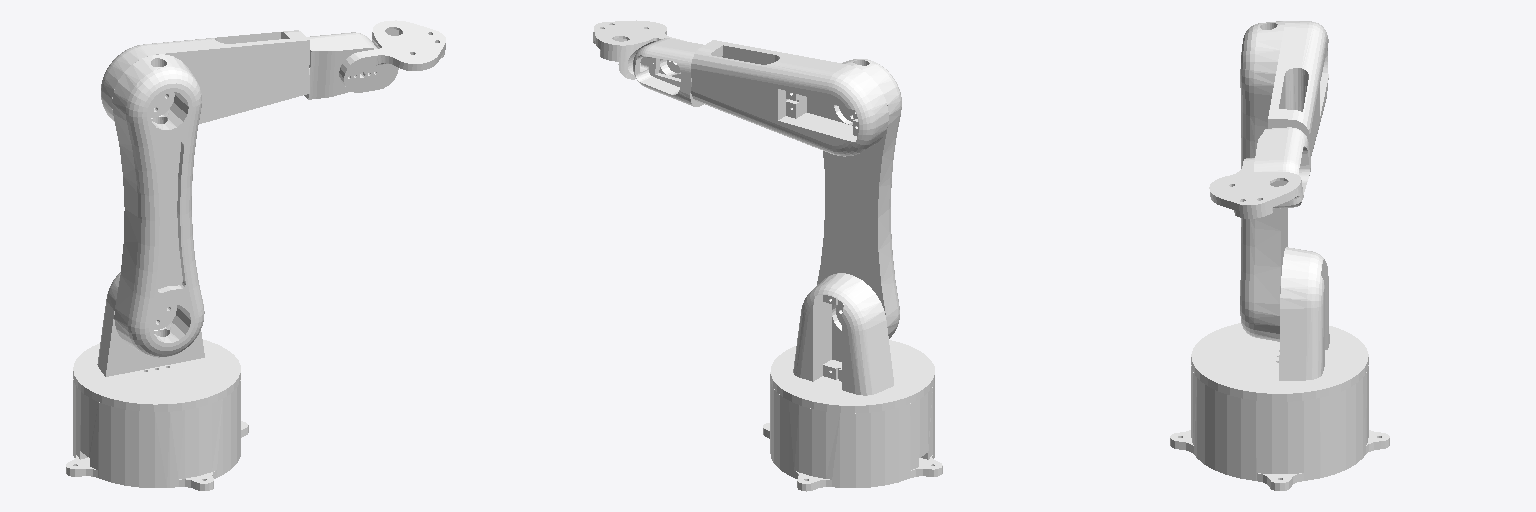
The robot description file, URDF, robot "URDF_ROBOT5GDL":
<?xml version="1.0" encoding="utf-8"?>
<!-- This URDF was automatically created by SolidWorks to URDF Exporter! Originally created by [author] ([email redacted]) 
     Commit Version: 1.6.0-4-g7f85cfe  Build Version: 1.6.7995.38578
     For more information, please see http://wiki.ros.org/sw_urdf_exporter -->
<robot
  name="URDF_ROBOT5GDL">
  <link
    name="base">
    <inertial>
      <origin
        xyz="-0.11962770585968 0.0224259173577204 0.0650534160948688"
        rpy="0 0 0" />
      <mass
        value="0.093991528357274" />
      <inertia
        ixx="0.000114117515271886"
        ixy="-1.35284011841919E-06"
        ixz="2.13737987932819E-08"
        iyy="0.00019776858898422"
        iyz="2.80449571670601E-09"
        izz="0.000124427213646739" />
    </inertial>
    <visual>
      <origin
        xyz="0 0 0"
        rpy="0 0 0" />
      <geometry>
        <mesh
          filename="package://URDF_ROBOT5GDL/meshes/base.STL" />
      </geometry>
      <material
        name="">
        <color
          rgba="1 1 1 1" />
      </material>
    </visual>
    <collision>
      <origin
        xyz="0 0 0"
        rpy="0 0 0" />
      <geometry>
        <mesh
          filename="package://URDF_ROBOT5GDL/meshes/base.STL" />
      </geometry>
    </collision>
  </link>
  <link
    name="J0">
    <inertial>
      <origin
        xyz="0.00705756789604024 -1.03814220123177E-07 -0.0194229347811683"
        rpy="0 0 0" />
      <mass
        value="0.0897213187915349" />
      <inertia
        ixx="7.72728720700329E-05"
        ixy="2.77140507338326E-10"
        ixz="7.96790903926998E-06"
        iyy="6.69370927398848E-05"
        iyz="-6.66096666573266E-11"
        izz="7.06954475493989E-05" />
    </inertial>
    <visual>
      <origin
        xyz="0 0 0"
        rpy="0 0 0" />
      <geometry>
        <mesh
          filename="package://URDF_ROBOT5GDL/meshes/J0.STL" />
      </geometry>
      <material
        name="">
        <color
          rgba="1 1 1 1" />
      </material>
    </visual>
    <collision>
      <origin
        xyz="0 0 0"
        rpy="0 0 0" />
      <geometry>
        <mesh
          filename="package://URDF_ROBOT5GDL/meshes/J0.STL" />
      </geometry>
    </collision>
  </link>
  <joint
    name="J0"
    type="continuous">
    <origin
      xyz="-0.120517011434494 -0.0650552599410059 0.0499999999999998"
      rpy="-3.14159265358979 0 1.47987282587312" />
    <parent
      link="base" />
    <child
      link="J0" />
    <axis
      xyz="0 0 1" />
  </joint>
  <link
    name="J1">
    <inertial>
      <origin
        xyz="-0.0700000105763837 -0.00781836198678804 -3.59229752472379E-08"
        rpy="0 0 0" />
      <mass
        value="0.13818908775593" />
      <inertia
        ixx="3.08451208820533E-05"
        ixy="-3.88973669767347E-12"
        ixz="-1.00959227812006E-10"
        iyy="0.000431781048974166"
        iyz="2.03392242386139E-11"
        izz="0.000413033559935478" />
    </inertial>
    <visual>
      <origin
        xyz="0 0 0"
        rpy="0 0 0" />
      <geometry>
        <mesh
          filename="package://URDF_ROBOT5GDL/meshes/J1.STL" />
      </geometry>
      <material
        name="">
        <color
          rgba="1 1 1 1" />
      </material>
    </visual>
    <collision>
      <origin
        xyz="0 0 0"
        rpy="0 0 0" />
      <geometry>
        <mesh
          filename="package://URDF_ROBOT5GDL/meshes/J1.STL" />
      </geometry>
    </collision>
  </link>
  <joint
    name="J1"
    type="continuous">
    <origin
      xyz="0 0 -0.0435499999999992"
      rpy="-3.14159265358979 -1.55987158755512 1.57079632679537" />
    <parent
      link="J0" />
    <child
      link="J1" />
    <axis
      xyz="0 1 0" />
  </joint>
  <link
    name="J2">
    <inertial>
      <origin
        xyz="0.000100524690572146 -0.0130785542880969 0.0316987674607788"
        rpy="0 0 0" />
      <mass
        value="0.0803344691186284" />
      <inertia
        ixx="0.000104520108783472"
        ixy="1.04782110853391E-08"
        ixz="-2.54229822619457E-07"
        iyy="0.00011722659357718"
        iyz="8.1701788336201E-07"
        izz="2.12574578367453E-05" />
    </inertial>
    <visual>
      <origin
        xyz="0 0 0"
        rpy="0 0 0" />
      <geometry>
        <mesh
          filename="package://URDF_ROBOT5GDL/meshes/J2.STL" />
      </geometry>
      <material
        name="">
        <color
          rgba="1 1 1 1" />
      </material>
    </visual>
    <collision>
      <origin
        xyz="0 0 0"
        rpy="0 0 0" />
      <geometry>
        <mesh
          filename="package://URDF_ROBOT5GDL/meshes/J2.STL" />
      </geometry>
    </collision>
  </link>
  <joint
    name="J2"
    type="continuous">
    <origin
      xyz="-0.140000000000001 0 0"
      rpy="0 -0.0206204308986285 3.14159265358979" />
    <parent
      link="J1" />
    <child
      link="J2" />
    <axis
      xyz="0 1 0" />
  </joint>
  <link
    name="J3">
    <inertial>
      <origin
        xyz="0.000564329020180998 0.00394900802042061 0.0224034593597551"
        rpy="0 0 0" />
      <mass
        value="0.0204480610002332" />
      <inertia
        ixx="5.09531086038014E-06"
        ixy="-2.9748855419056E-09"
        ixz="-1.13770387817142E-08"
        iyy="6.07399569864947E-06"
        iyz="-3.91777865594178E-07"
        izz="2.9611806707879E-06" />
    </inertial>
    <visual>
      <origin
        xyz="0 0 0"
        rpy="0 0 0" />
      <geometry>
        <mesh
          filename="package://URDF_ROBOT5GDL/meshes/J3.STL" />
      </geometry>
      <material
        name="">
        <color
          rgba="1 1 1 1" />
      </material>
    </visual>
    <collision>
      <origin
        xyz="0 0 0"
        rpy="0 0 0" />
      <geometry>
        <mesh
          filename="package://URDF_ROBOT5GDL/meshes/J3.STL" />
      </geometry>
    </collision>
  </link>
  <joint
    name="J3"
    type="continuous">
    <origin
      xyz="-0.00509999999999963 -0.0143499999999989 0.100546975009718"
      rpy="0 0 0.11285395074636" />
    <parent
      link="J2" />
    <child
      link="J3" />
    <axis
      xyz="0 0 1" />
  </joint>
  <link
    name="J4">
    <inertial>
      <origin
        xyz="0.024485 0.0047925 0.013092"
        rpy="0 0 0" />
      <mass
        value="0.015576" />
      <inertia
        ixx="2.5841E-06"
        ixy="-8.3085E-07"
        ixz="5.4613E-07"
        iyy="6.2478E-06"
        iyz="1.0034E-08"
        izz="4.8787E-06" />
    </inertial>
    <visual>
      <origin
        xyz="0 0 0"
        rpy="0 0 0" />
      <geometry>
        <mesh
          filename="package://URDF_ROBOT5GDL/meshes/J4.STL" />
      </geometry>
      <material
        name="">
        <color
          rgba="1 1 1 1" />
      </material>
    </visual>
    <collision>
      <origin
        xyz="0 0 0"
        rpy="0 0 0" />
      <geometry>
        <mesh
          filename="package://URDF_ROBOT5GDL/meshes/J4.STL" />
      </geometry>
    </collision>
  </link>
  <joint
    name="J4"
    type="continuous">
    <origin
      xyz="0.00060263 0 0.032353"
      rpy="1.5708 -1.5489 -3.1416" />
    <parent
      link="J3" />
    <child
      link="J4" />
    <axis
      xyz="0 0 1" />
  </joint>
</robot>

--- What the picture shows (computed from the rendered views, not written in the file) ---
3 views of the same robot in one strip: view 1: azimuth 30°, elevation 25°; view 2: azimuth 150°, elevation 25°; view 3: azimuth 270°, elevation 25° (orthographic).
Model URDF_ROBOT5GDL with 6 links and 5 joints (5 continuous), rooted at base, posed all joints at 0.
Visible links, largest first — view 1: J1, base, J2, J0, J4, J3; view 2: J2, J0, base, J1, J3, J4; view 3: base, J0, J1, J2, J4, J3.
Boxes of the visible links, box(x1,y1,x2,y2) form: J1: box(112, 54, 204, 357); base: box(66, 379, 248, 490); J2: box(101, 30, 309, 123); J0: box(73, 272, 240, 411); J4: box(339, 20, 445, 92); J3: box(304, 32, 377, 99); J2: box(691, 40, 888, 156); J0: box(770, 273, 934, 413); base: box(763, 381, 942, 491); J1: box(817, 59, 901, 338); J3: box(633, 38, 703, 106); J4: box(593, 20, 683, 79); base: box(1170, 365, 1389, 490); J0: box(1191, 247, 1368, 401); J1: box(1240, 21, 1287, 341); J2: box(1268, 21, 1328, 156); J4: box(1209, 158, 1303, 218); J3: box(1254, 127, 1310, 194).
Bounding box of the posed robot: 0.2502 × 0.124 × 0.2605 m (x, y, z).
Meshes: 6 distinct files referenced, 6 mesh visuals loaded (6 binary STL).